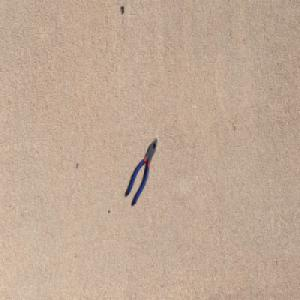Pliers: (126, 136, 158, 205)
